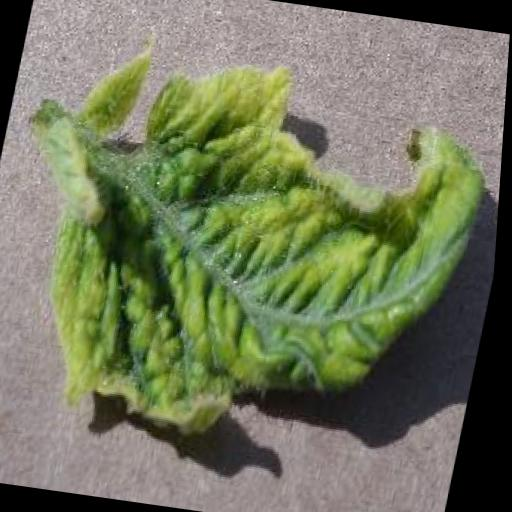Yellow Leaf Curl Virus: (18, 34, 506, 462)
